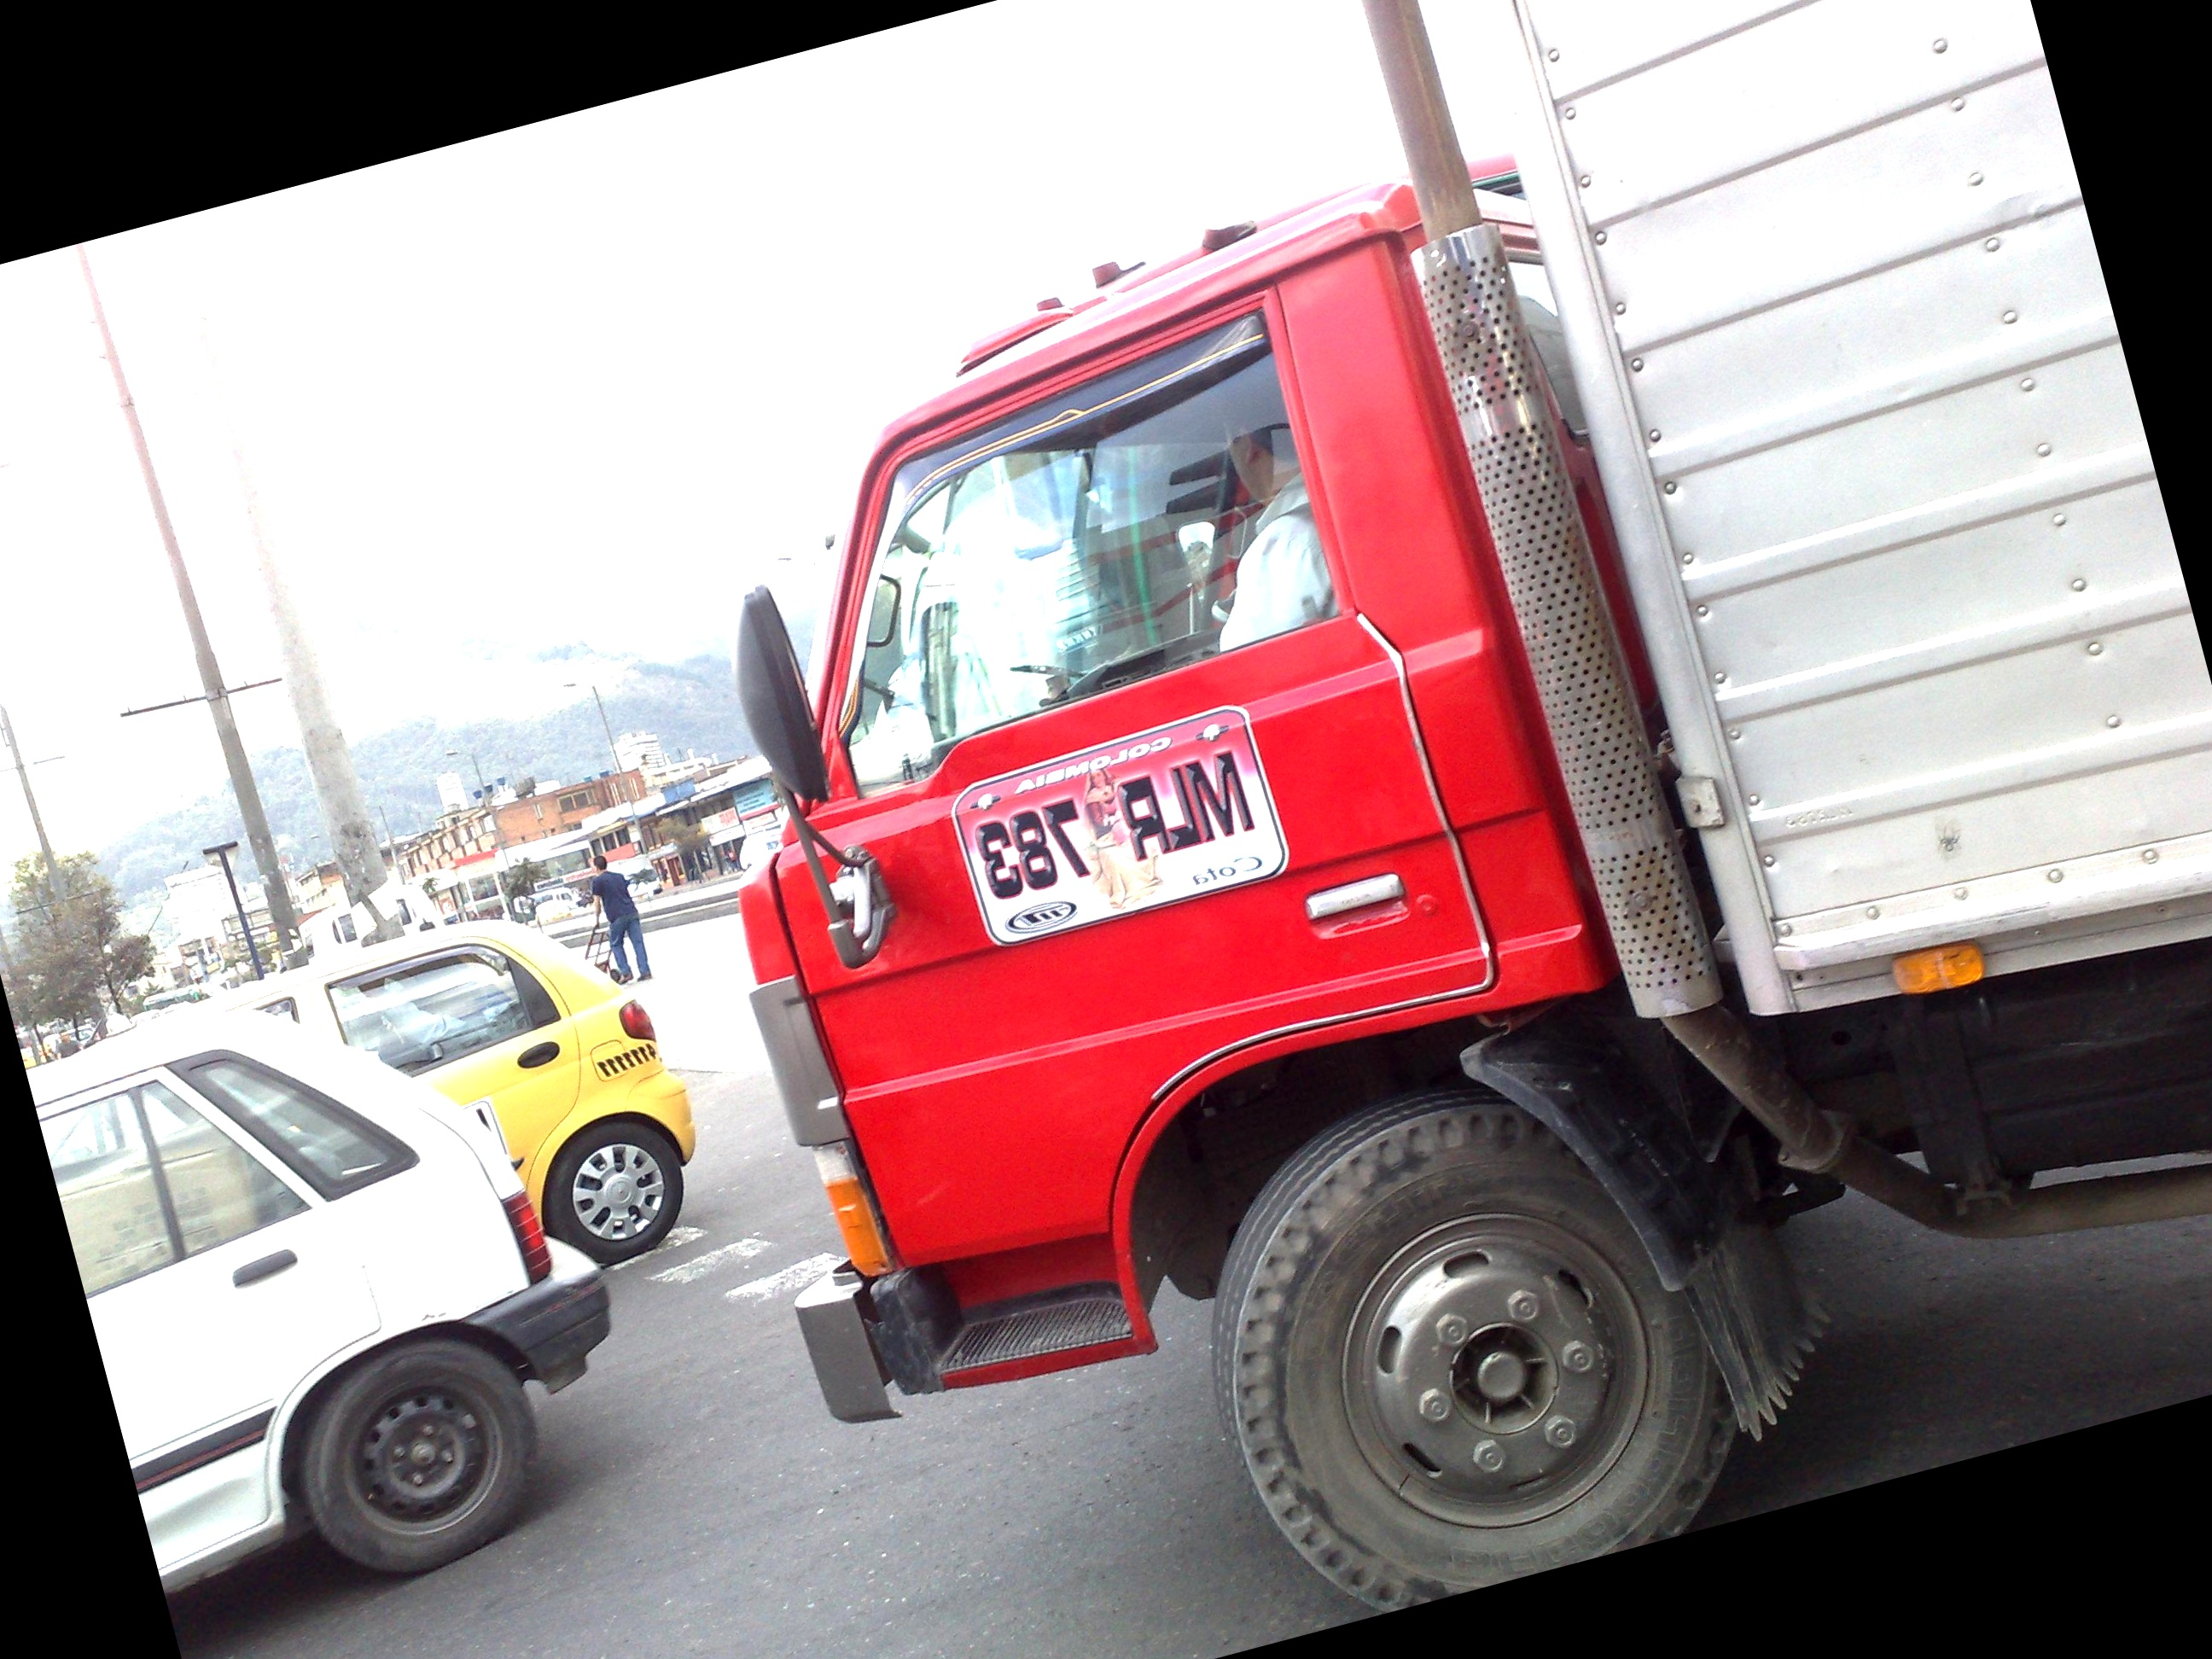placas: (936, 689, 1299, 964)
